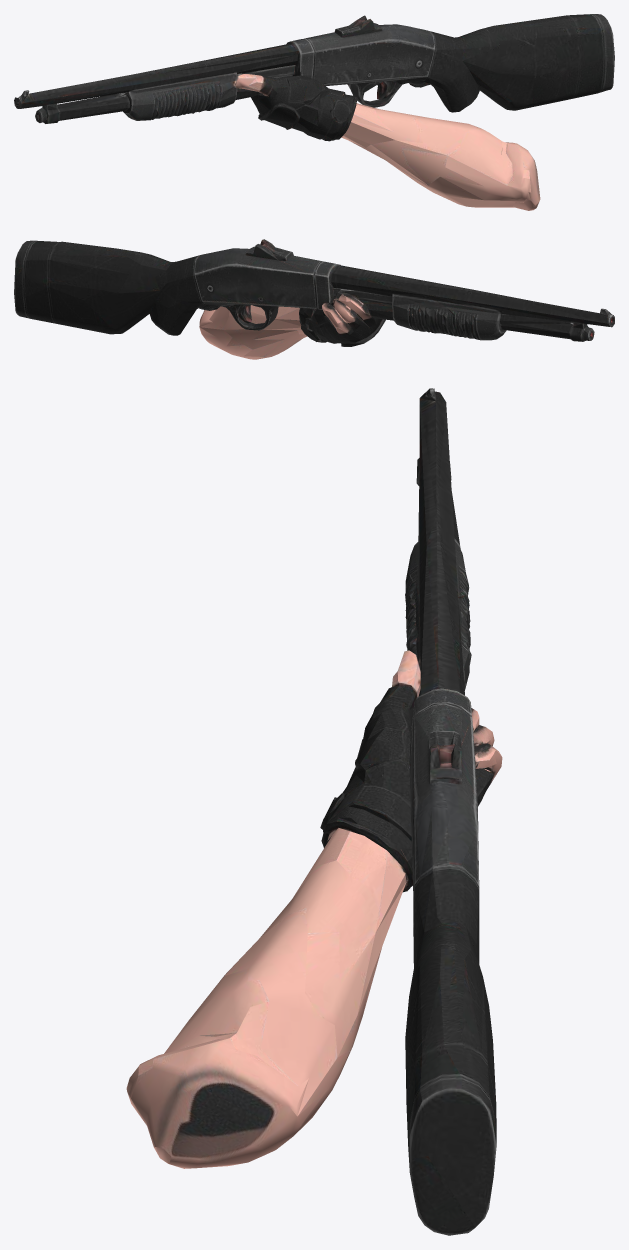
The model's file is arm_shotgun.glb.
3 views of the same model, one above another, from view 1: azimuth 30°, elevation 25°; view 2: azimuth 150°, elevation 25°; view 3: azimuth 270°, elevation 25° (orthographic). The views are drawn at different scales.
Parts seen in each view (by area): view 1: output_unwrapped; view 2: output_unwrapped; view 3: output_unwrapped.
Boxes of the visible parts, left/top/right/bottom form: output_unwrapped: left=14, top=14, right=614, bottom=210; output_unwrapped: left=14, top=239, right=614, bottom=359; output_unwrapped: left=126, top=388, right=502, bottom=1235.
Bounding box in the file's own units: 1.9 × 0.5518 × 0.5278.
1 material, 1 textured.
